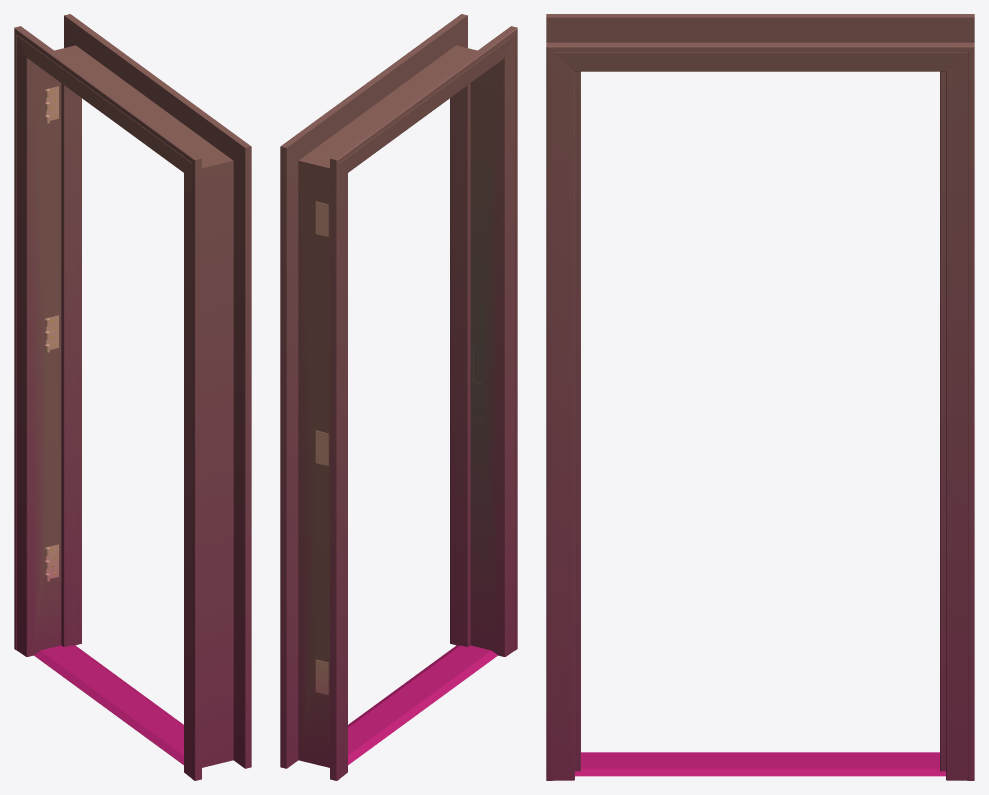
File: Kit_DoorFrame_Wood.fbx
3 views of the same model, side by side, from view 1: azimuth 30°, elevation 25°; view 2: azimuth 150°, elevation 25°; view 3: azimuth 270°, elevation 25° (orthographic). The views are drawn at different scales.
Parts seen in each view (by area): view 1: Kit_DoorFrame_Wood_LOD0; view 2: Kit_DoorFrame_Wood_LOD0; view 3: Kit_DoorFrame_Wood_LOD0.
Part boxes in pixels (<box>): Kit_DoorFrame_Wood_LOD0: <box>14,14,251,780</box>; Kit_DoorFrame_Wood_LOD0: <box>280,14,517,780</box>; Kit_DoorFrame_Wood_LOD0: <box>546,14,974,780</box>.
Size of what is drawn, in the model's own units: 0.21 by 2.17 by 1.15.
